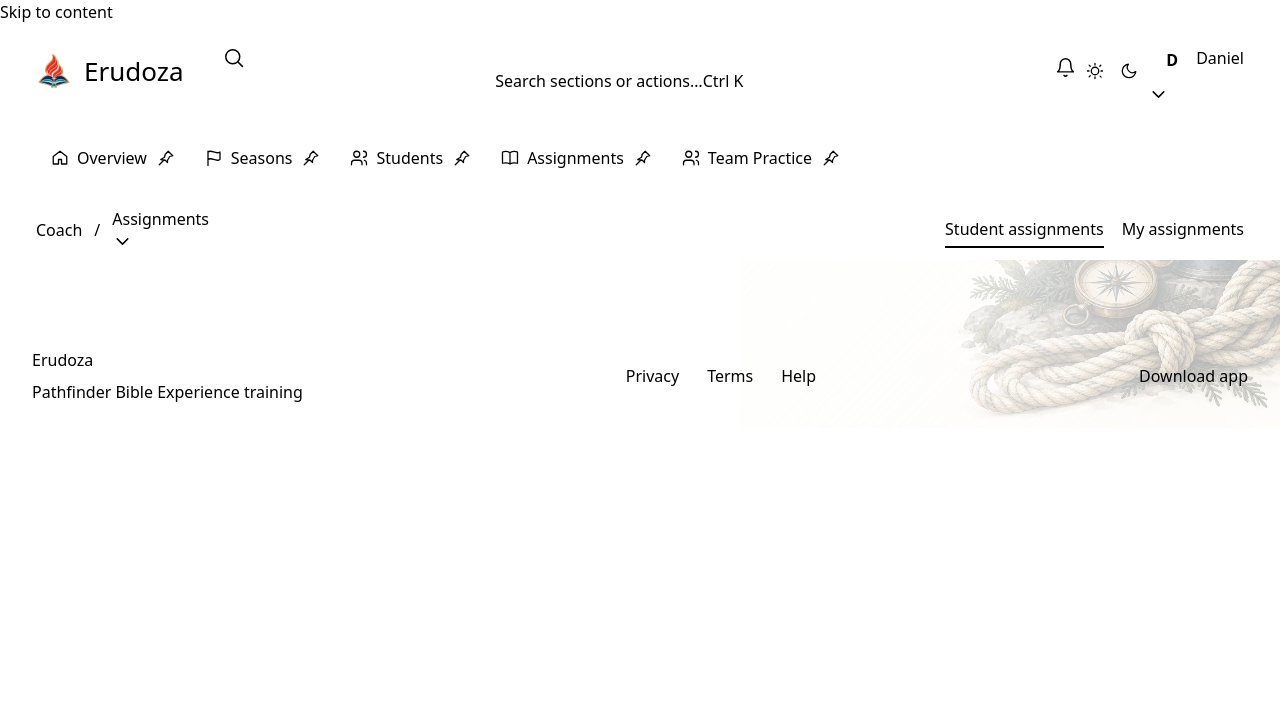
Scenario: hides PBE materials, PBE news, and the invite-coach shortcut from admins in Search
The width and height of the screenshot is (1280, 720).
Click the button "Search sections or actions…Ctrl K".
click(619, 70)  # box [208,38,1031,103]
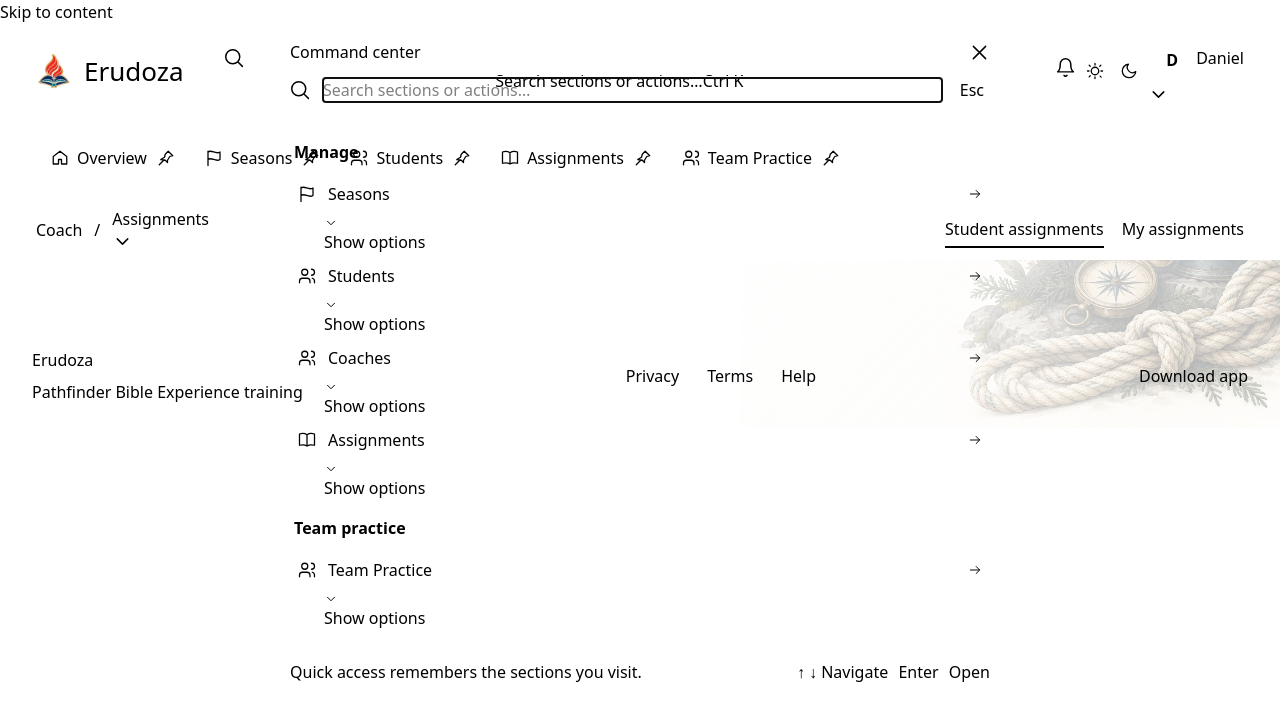
Now the link "Coaches" is shown, box [298,347,982,369]
